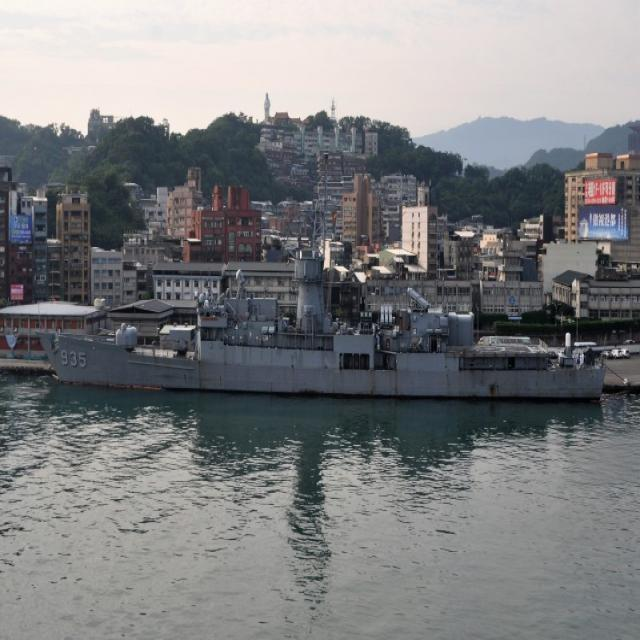Fragata: (31, 250, 612, 411)
